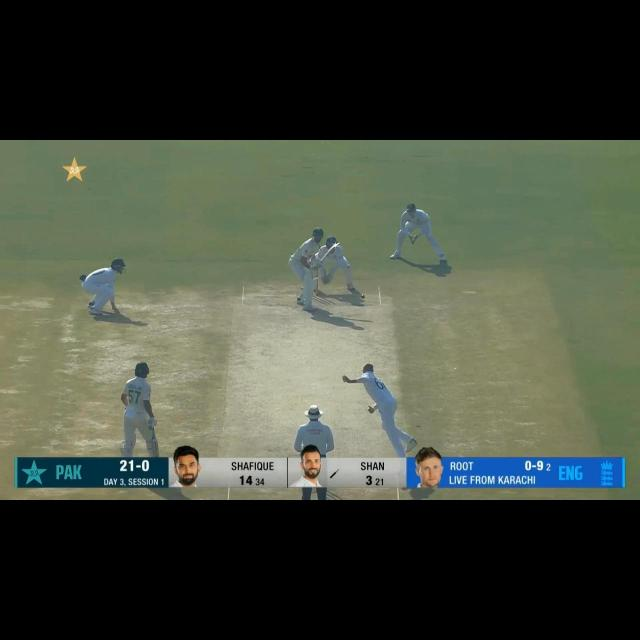bat: (319, 243, 340, 262), (151, 440, 159, 457)
toe: (333, 242, 340, 247)
